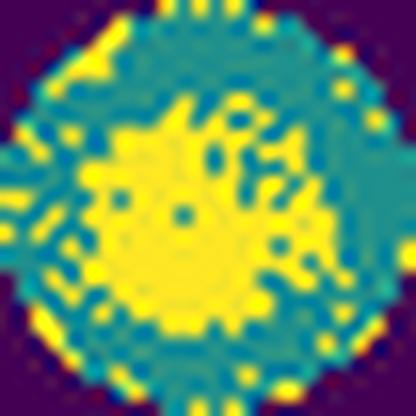Center: (74, 96, 337, 338)
